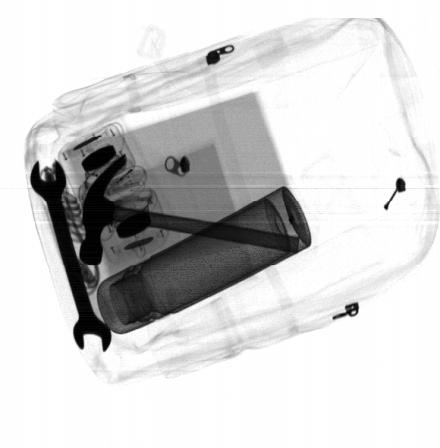Hammer: (79, 150, 300, 266)
Wrench: (30, 157, 113, 355)
